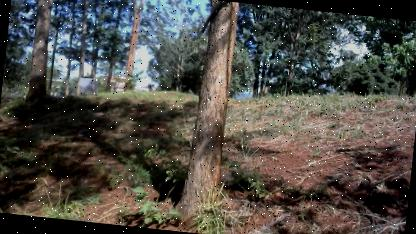tree: (164, 0, 244, 234), (17, 0, 63, 114), (113, 0, 153, 100)
